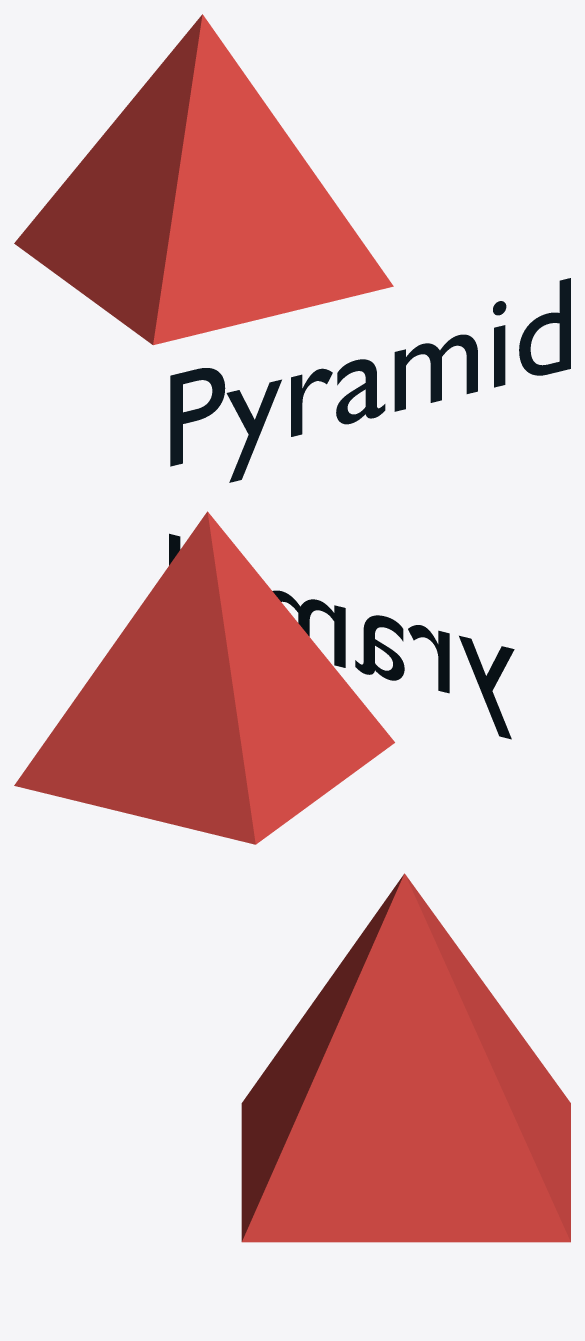
Rendered from pyramid_static.gltf.
3 renders of one model, top to bottom at view 1: azimuth 30°, elevation 25°; view 2: azimuth 150°, elevation 25°; view 3: azimuth 270°, elevation 25°, orthographic. The views are drawn at different scales.
Visible parts, largest first — view 1: Cube, Text.001; view 2: Cube, Text.001; view 3: Cube.
Boxes of the visible parts, left/top/right/bottom form: Cube: left=14, top=14, right=393, bottom=345; Text.001: left=170, top=278, right=570, bottom=482; Cube: left=14, top=511, right=394, bottom=844; Text.001: left=169, top=533, right=514, bottom=739; Cube: left=241, top=873, right=570, bottom=1242.
Bounding box in the file's own units: 0.3327 × 0.2495 × 0.3383.
